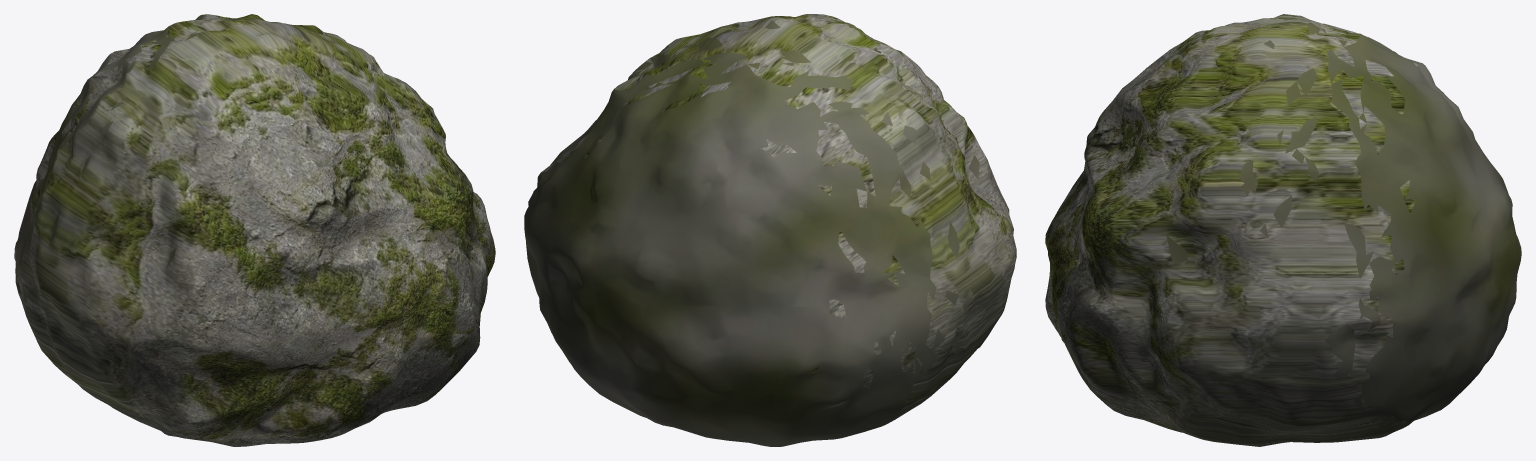
File: rock.glb
3 renders of one model, left to right at view 1: azimuth 30°, elevation 25°; view 2: azimuth 150°, elevation 25°; view 3: azimuth 270°, elevation 25°, orthographic.
Parts seen in each view (by area): view 1: rock; view 2: rock; view 3: rock.
Boxes of the visible parts, left/top/right/bottom form: rock: left=14, top=14, right=495, bottom=446; rock: left=524, top=14, right=1016, bottom=446; rock: left=1045, top=14, right=1521, bottom=446.
Size of the model in its own units: 4 by 3.37 by 3.99.
Materials: 1 (1 with a texture image).
